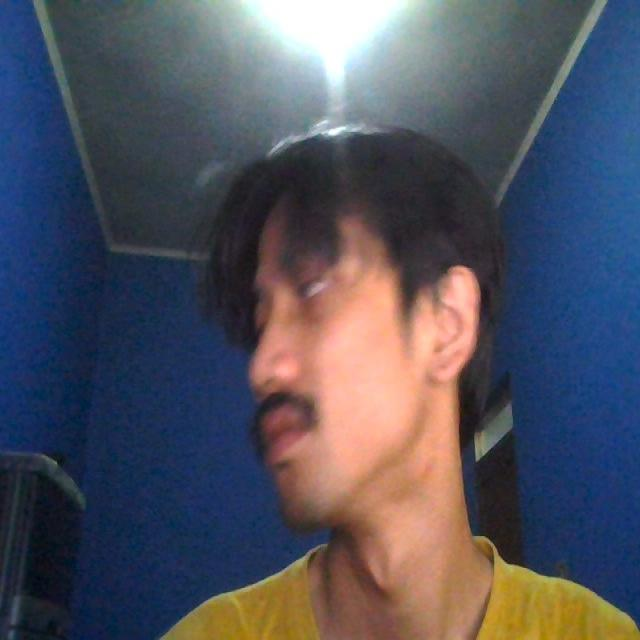Melihat kekanan: (168, 155, 532, 542)
